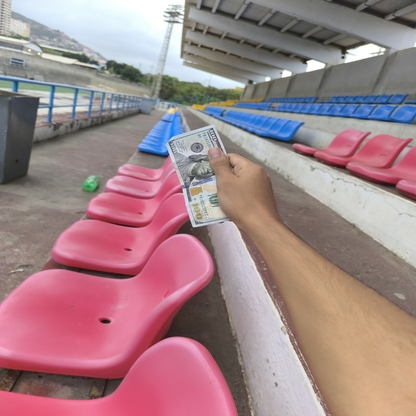one_hundred-front: (162, 124, 254, 233)
